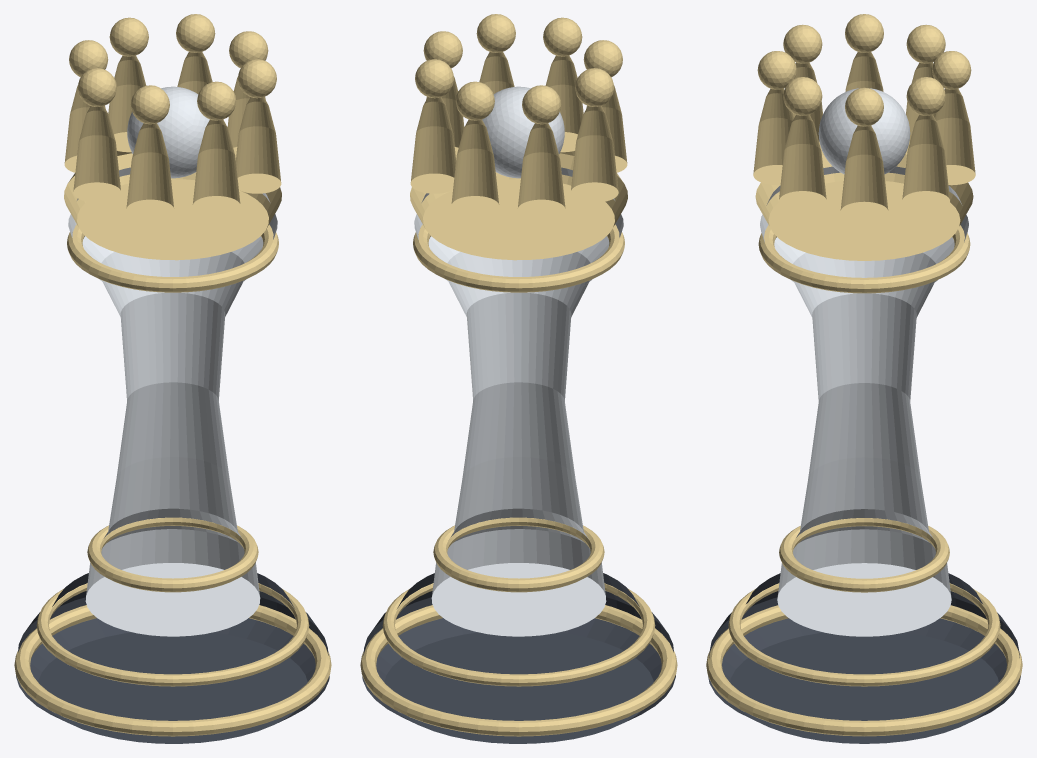
Rendered from queen.glb.
The picture shows the model from 3 angles, left to right: view 1: azimuth 30°, elevation 25°; view 2: azimuth 150°, elevation 25°; view 3: azimuth 270°, elevation 25°; orthographic projection.
Visible parts, largest first — view 1: queen_Champagne Gold, queen_Polished Platinum, queen_Obsidian Enamel; view 2: queen_Champagne Gold, queen_Polished Platinum, queen_Obsidian Enamel; view 3: queen_Champagne Gold, queen_Polished Platinum, queen_Obsidian Enamel.
Boxes of the visible parts, left/top/right/bottom form: queen_Champagne Gold: left=14, top=14, right=331, bottom=736; queen_Polished Platinum: left=68, top=86, right=277, bottom=636; queen_Obsidian Enamel: left=16, top=573, right=329, bottom=743; queen_Champagne Gold: left=360, top=14, right=677, bottom=736; queen_Polished Platinum: left=414, top=86, right=623, bottom=636; queen_Obsidian Enamel: left=362, top=573, right=675, bottom=743; queen_Champagne Gold: left=706, top=14, right=1022, bottom=736; queen_Polished Platinum: left=760, top=88, right=968, bottom=636; queen_Obsidian Enamel: left=708, top=573, right=1020, bottom=743.
Bounding box in the file's own units: 0.726 × 1.61 × 0.726.
